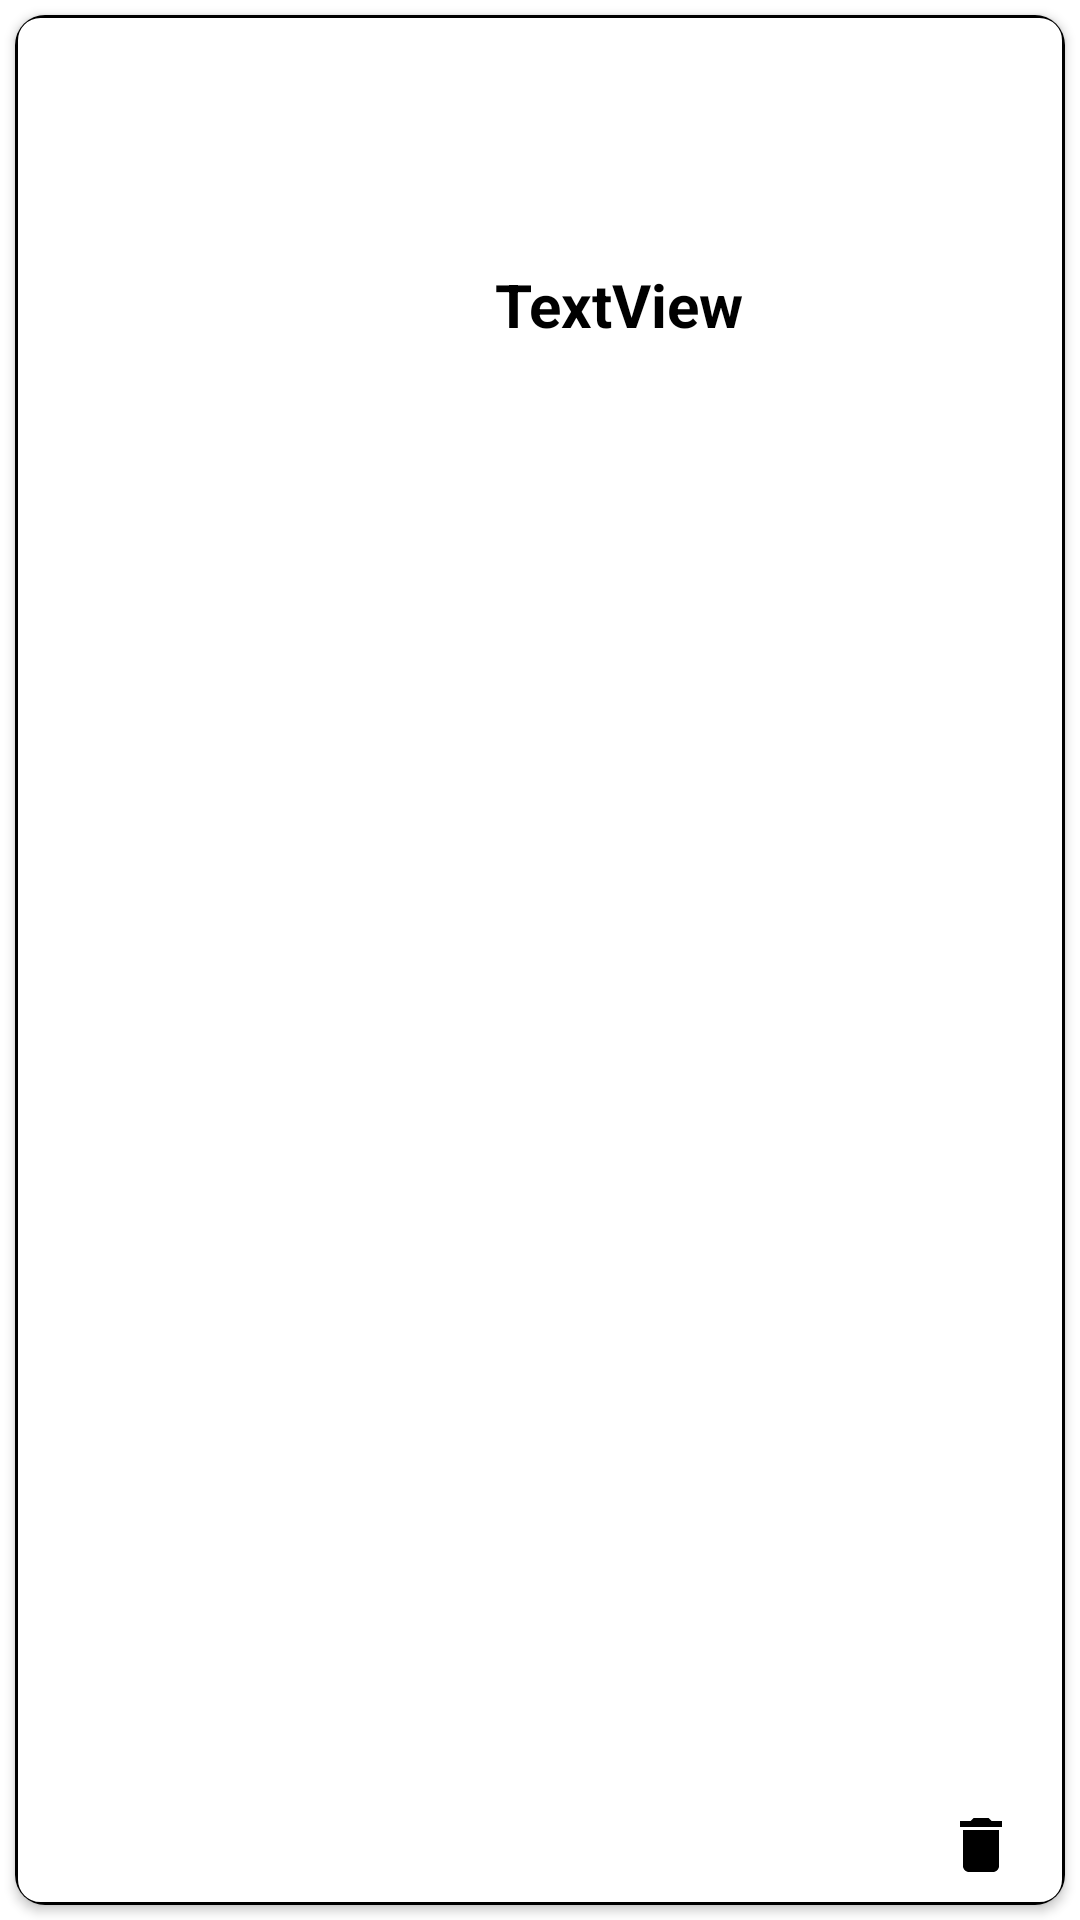

Named icons in this screenshot (1080*1920) and their bounding boxes, (x1, y1, x2, y2):
sil resim: (960, 1818, 1002, 1872)
